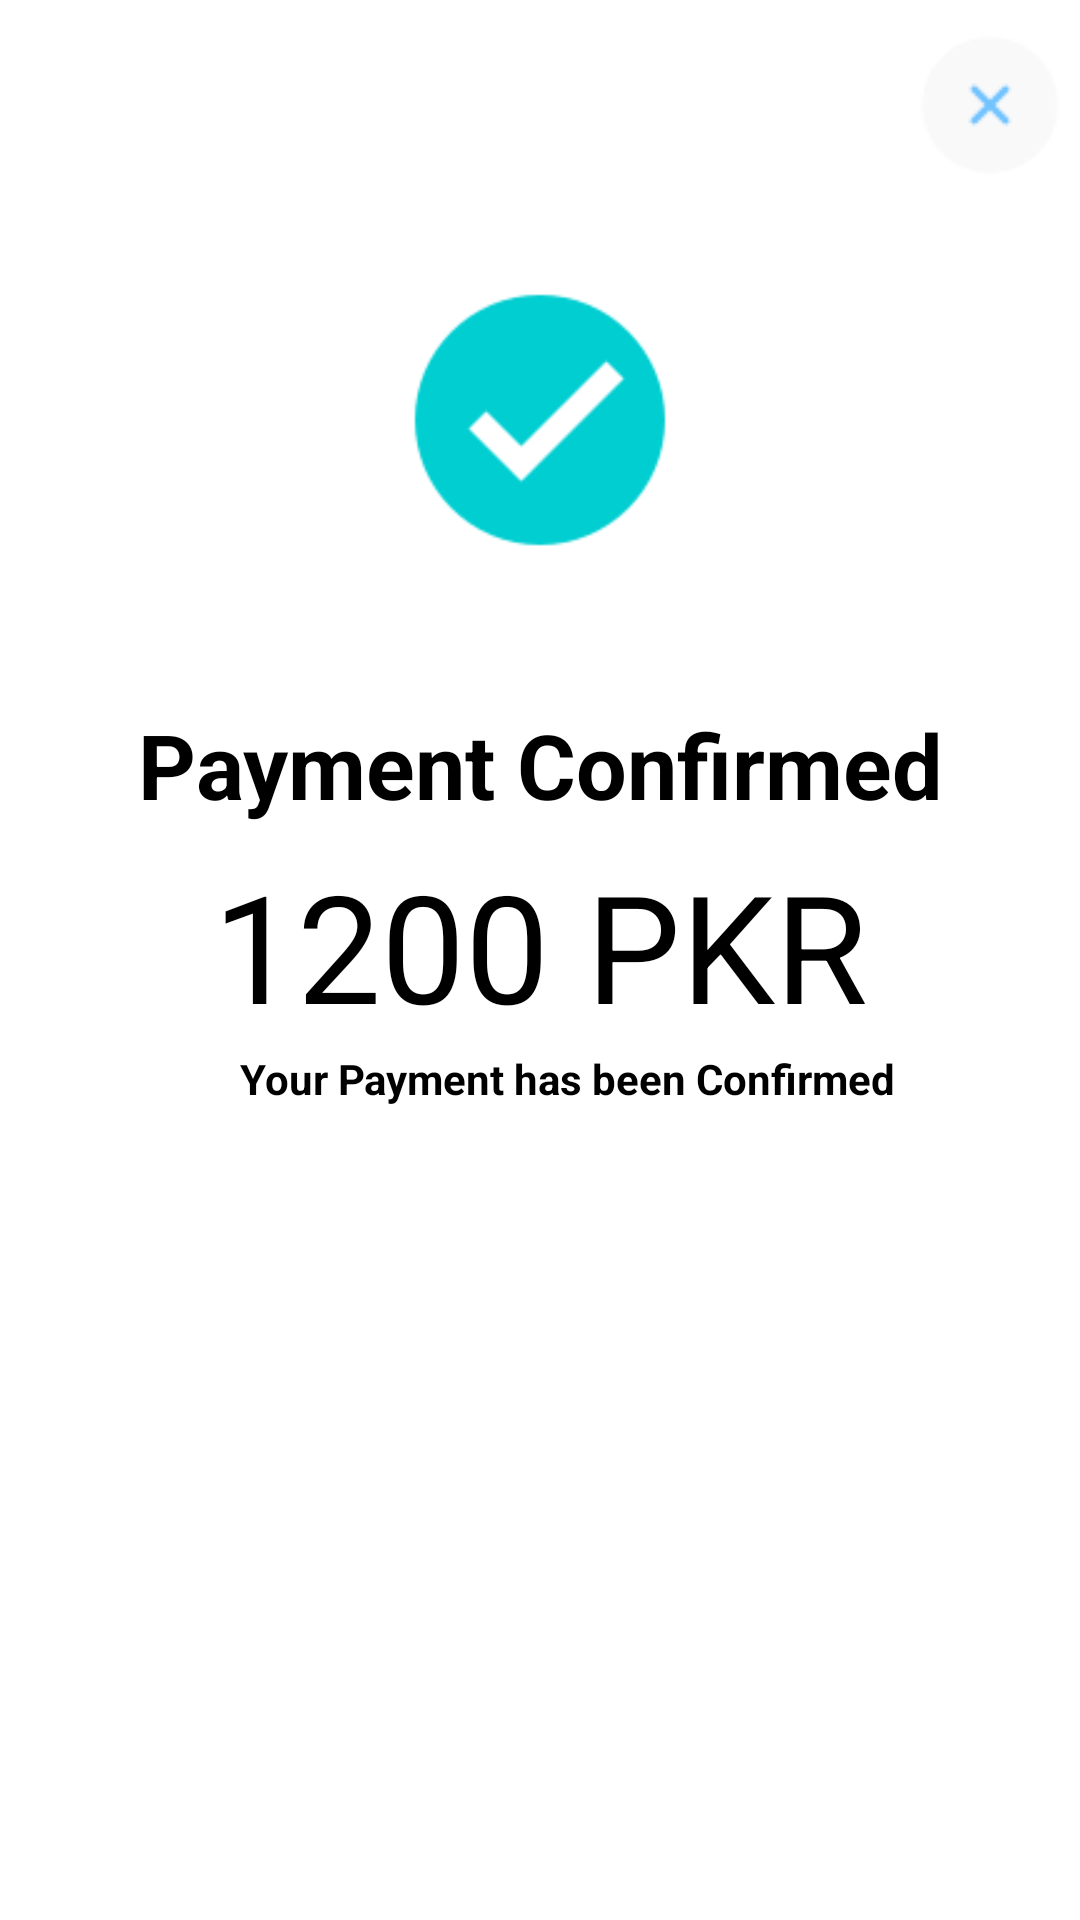

Icons on this 1080w x 1920h Android screen, each with its box as (x1, y1, x2, y2):
close: (969, 84, 1011, 126)
donetick: (414, 294, 666, 546)
